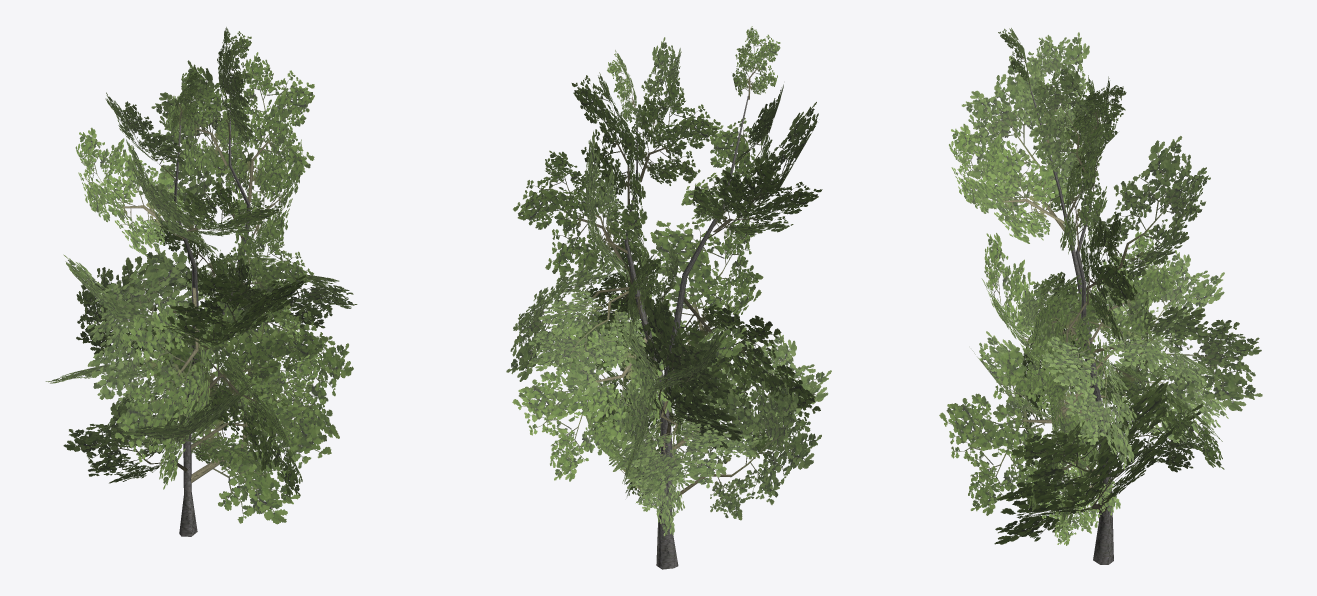
3 renders of one model, left to right at view 1: azimuth 30°, elevation 25°; view 2: azimuth 150°, elevation 25°; view 3: azimuth 270°, elevation 25°, orthographic. The views are drawn at different scales.
Parts seen in each view (by area): view 1: Tree-03-4; view 2: Tree-03-4; view 3: Tree-03-4.
Boxes of the visible parts, left/top/right/bottom form: Tree-03-4: left=45, top=27, right=357, bottom=536; Tree-03-4: left=506, top=26, right=831, bottom=569; Tree-03-4: left=939, top=28, right=1262, bottom=564.
Bounding box in the file's own units: 578 × 808 × 550.
